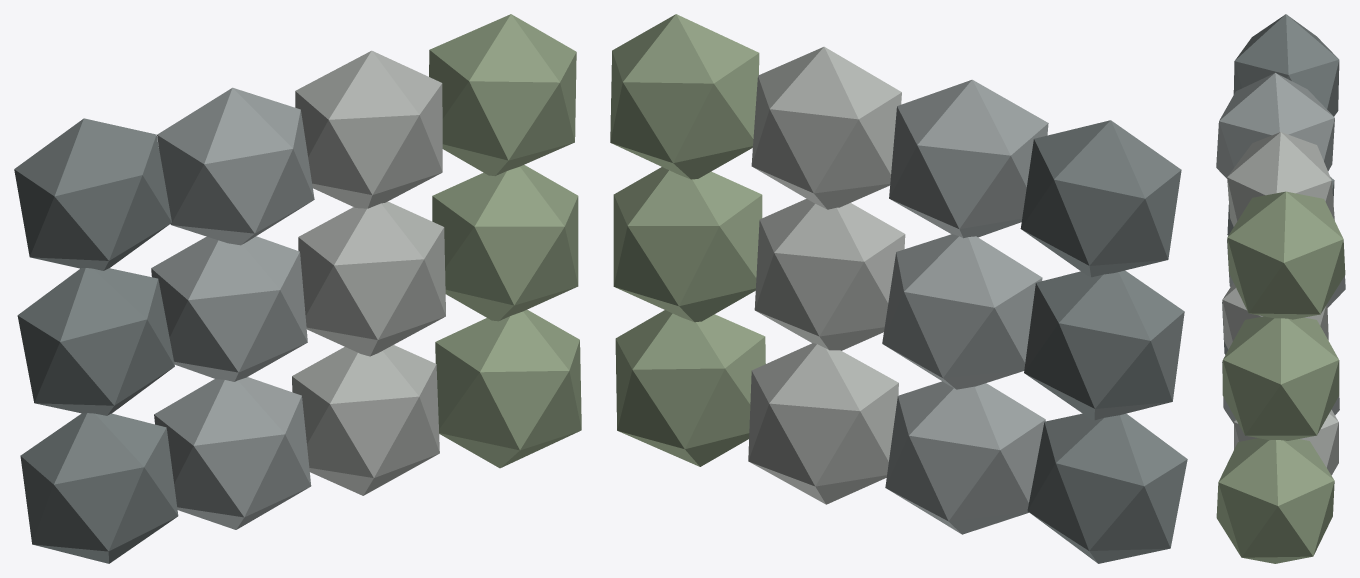
Rendered from cliff_face_4x3.glb.
3 renders of one model, left to right at view 1: azimuth 30°, elevation 25°; view 2: azimuth 150°, elevation 25°; view 3: azimuth 270°, elevation 25°, orthographic. The views are drawn at different scales.
Visible parts, largest first — view 1: cliff_face_4m_01, cliff_face_4m_10, cliff_face_4m_04, cliff_face_4m_09, cliff_face_4m_12, cliff_face_4m_07, cliff_face_4m_11, cliff_face_4m_05, cliff_face_4m_08, cliff_face_4m_02, cliff_face_4m_06, cliff_face_4m_03; view 2: cliff_face_4m_12, cliff_face_4m_09, cliff_face_4m_05, cliff_face_4m_08, cliff_face_4m_03, cliff_face_4m_02, cliff_face_4m_06, cliff_face_4m_10, cliff_face_4m_11, cliff_face_4m_01, cliff_face_4m_04, cliff_face_4m_07; view 3: cliff_face_4m_12, cliff_face_4m_08, cliff_face_4m_04, cliff_face_4m_10, cliff_face_4m_09, cliff_face_4m_11, cliff_face_4m_07, cliff_face_4m_03, cliff_face_4m_06, cliff_face_4m_02.
Boxes of the visible parts, x1,y1,x2,y2 form: cliff_face_4m_01: (20, 413, 178, 563); cliff_face_4m_10: (157, 87, 314, 245); cliff_face_4m_04: (435, 309, 581, 468); cliff_face_4m_09: (14, 118, 171, 270); cliff_face_4m_12: (429, 14, 576, 175); cliff_face_4m_07: (298, 201, 445, 356); cliff_face_4m_11: (295, 50, 442, 208); cliff_face_4m_05: (17, 268, 174, 415); cliff_face_4m_08: (432, 165, 578, 321); cliff_face_4m_02: (154, 377, 311, 529); cliff_face_4m_06: (151, 236, 307, 381); cliff_face_4m_03: (292, 345, 439, 495); cliff_face_4m_12: (610, 14, 759, 179); cliff_face_4m_09: (1020, 120, 1181, 277); cliff_face_4m_05: (1024, 270, 1184, 420); cliff_face_4m_08: (613, 167, 762, 322); cliff_face_4m_03: (748, 343, 898, 504); cliff_face_4m_02: (885, 381, 1045, 534); cliff_face_4m_06: (882, 234, 1042, 389); cliff_face_4m_10: (889, 79, 1048, 238); cliff_face_4m_11: (751, 46, 901, 209); cliff_face_4m_01: (1027, 413, 1187, 563); cliff_face_4m_04: (615, 310, 765, 466); cliff_face_4m_07: (754, 198, 905, 350); cliff_face_4m_12: (1227, 191, 1345, 319); cliff_face_4m_08: (1222, 316, 1339, 440); cliff_face_4m_04: (1216, 438, 1334, 563); cliff_face_4m_10: (1216, 73, 1334, 178); cliff_face_4m_09: (1233, 14, 1339, 116); cliff_face_4m_11: (1227, 132, 1334, 226); cliff_face_4m_07: (1222, 283, 1328, 349); cliff_face_4m_03: (1234, 409, 1338, 475); cliff_face_4m_06: (1227, 239, 1345, 307); cliff_face_4m_02: (1222, 361, 1339, 423).
Bounding box in the file's own units: 4.01 × 3.13 × 0.966.
